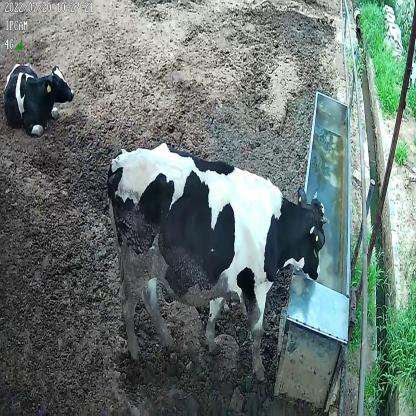cow: (106, 144, 330, 378), (1, 60, 77, 137)
